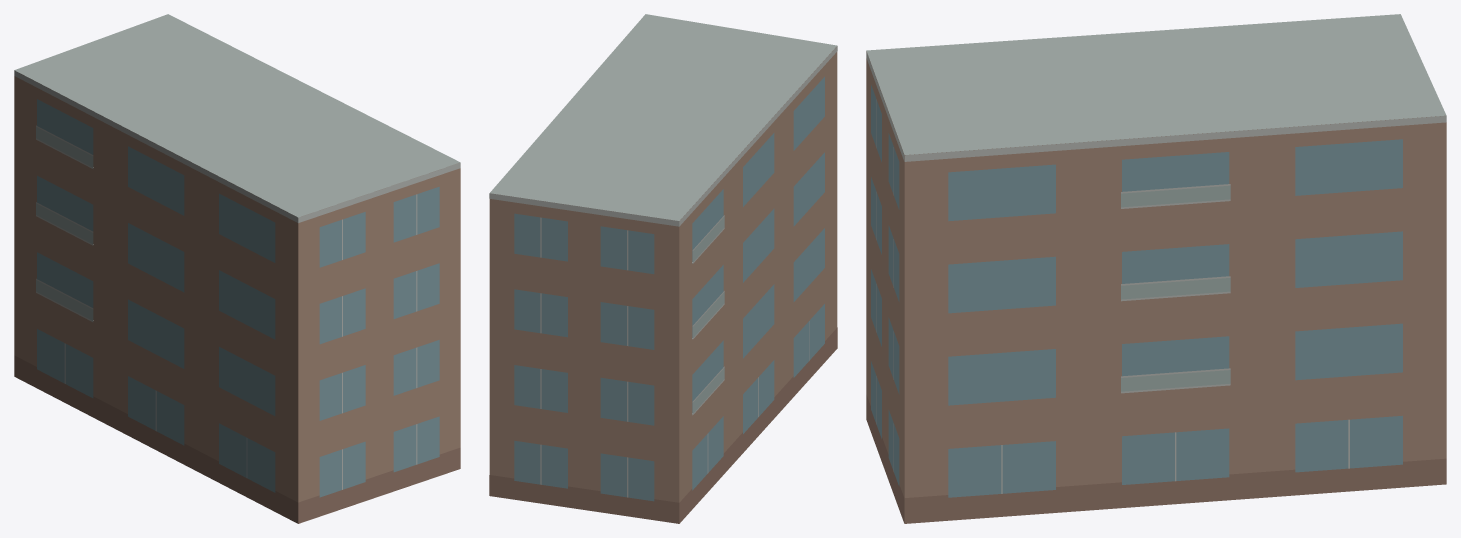
Rendered from survey-upis-32859441.glb.
3 views of the same model, side by side, from view 1: azimuth 30°, elevation 25°; view 2: azimuth 150°, elevation 25°; view 3: azimuth 270°, elevation 25° (orthographic). The views are drawn at different scales.
Visible parts, largest first — view 1: survey-upis-32859441.tmp; view 2: survey-upis-32859441.tmp; view 3: survey-upis-32859441.tmp.
Part boxes in pixels (left/top/right/bottom): survey-upis-32859441.tmp: left=14, top=14, right=460, bottom=523; survey-upis-32859441.tmp: left=489, top=14, right=837, bottom=523; survey-upis-32859441.tmp: left=866, top=14, right=1446, bottom=523.
Bounding box in the file's own units: 10.85 × 13.2 × 18.84.
